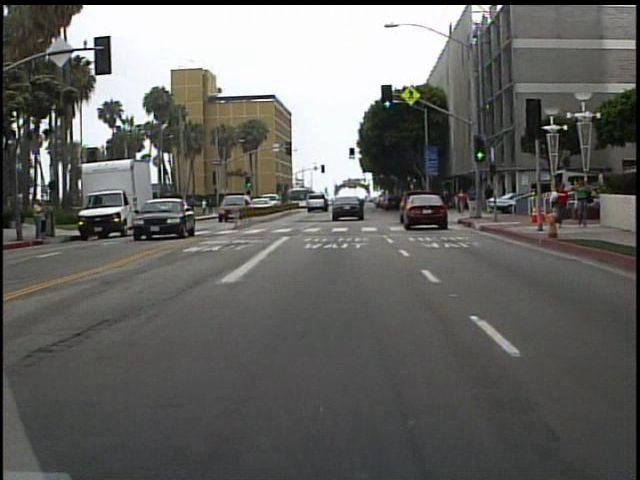person: (35, 197, 53, 242), (466, 183, 479, 219), (452, 188, 468, 217), (482, 180, 495, 214)
